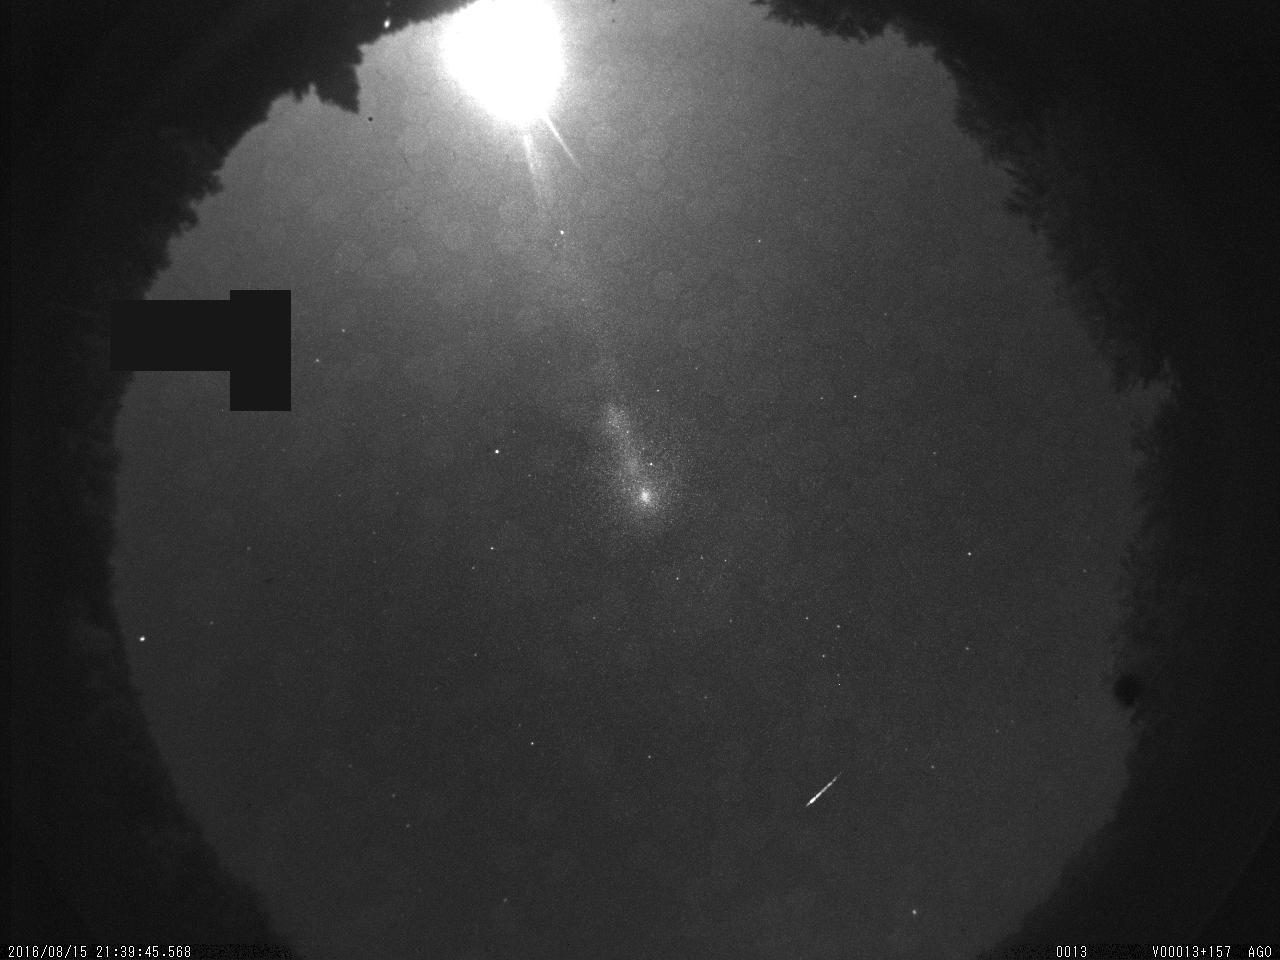meteor: (781, 763, 860, 821)
